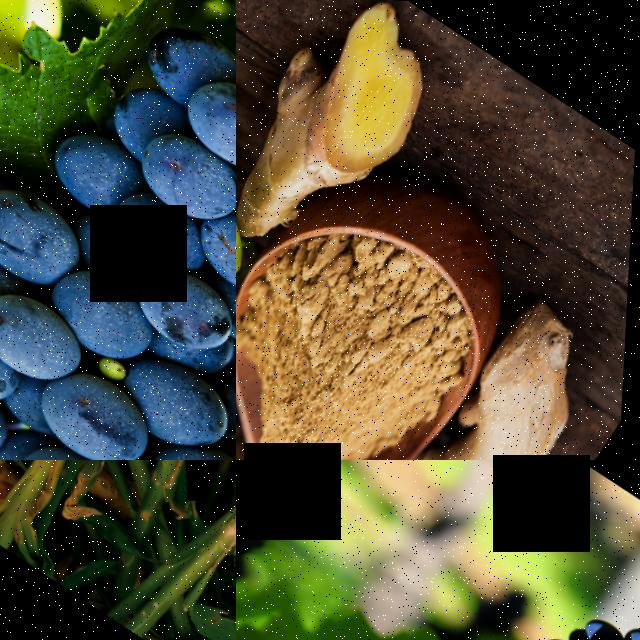ginger: (341, 271, 630, 460), (236, 0, 462, 238)
grapes: (0, 0, 236, 460), (243, 487, 640, 640)
